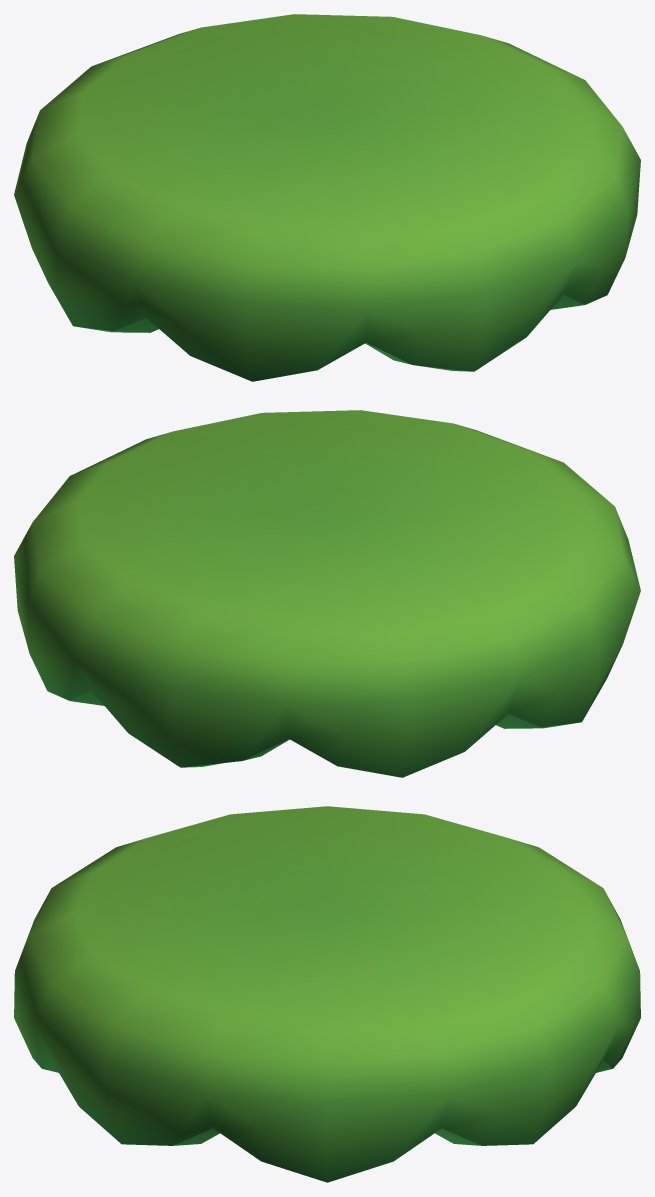
The model's file is Hill_Top_E_Cap_Color1.gltf.
The picture shows the model from 3 angles, top to bottom: view 1: azimuth 30°, elevation 25°; view 2: azimuth 150°, elevation 25°; view 3: azimuth 270°, elevation 25°; orthographic projection.
Visible parts, largest first — view 1: Hill_Top_E_Cap_Color1; view 2: Hill_Top_E_Cap_Color1; view 3: Hill_Top_E_Cap_Color1.
Part boxes in pixels (left/top/right/bottom): Hill_Top_E_Cap_Color1: left=14, top=14, right=640, bottom=381; Hill_Top_E_Cap_Color1: left=14, top=410, right=640, bottom=777; Hill_Top_E_Cap_Color1: left=14, top=806, right=640, bottom=1182.
Size of the model in its own units: 2.47 by 0.6959 by 2.47.
Materials: 1 (1 with a texture image).
